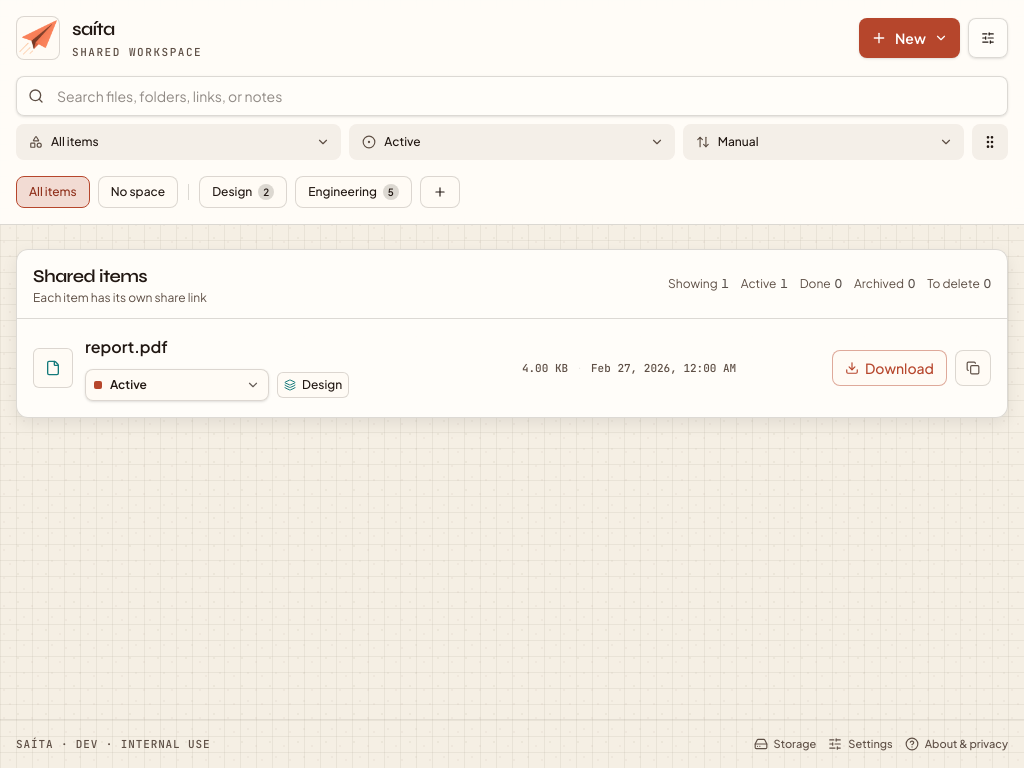
Test: shows a polished icon marker for assigned space and no marker mode controls
Expected: the text "report.pdf" is shown, [85,336,168,357]
Expected: the text "Design" below "report.pdf" is shown, [302,377,342,392]
Click the button with aria-label "Change space".
click(313, 385)  # box [277,372,349,398]
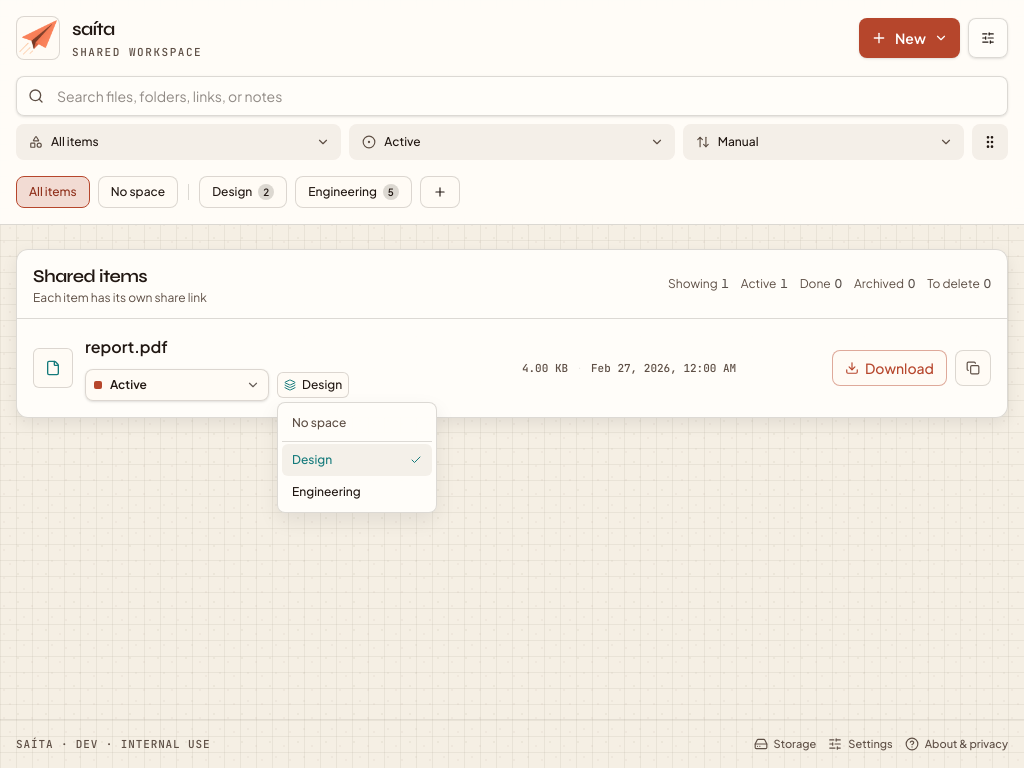
Now the menu is shown, box [277,402,437,513]
